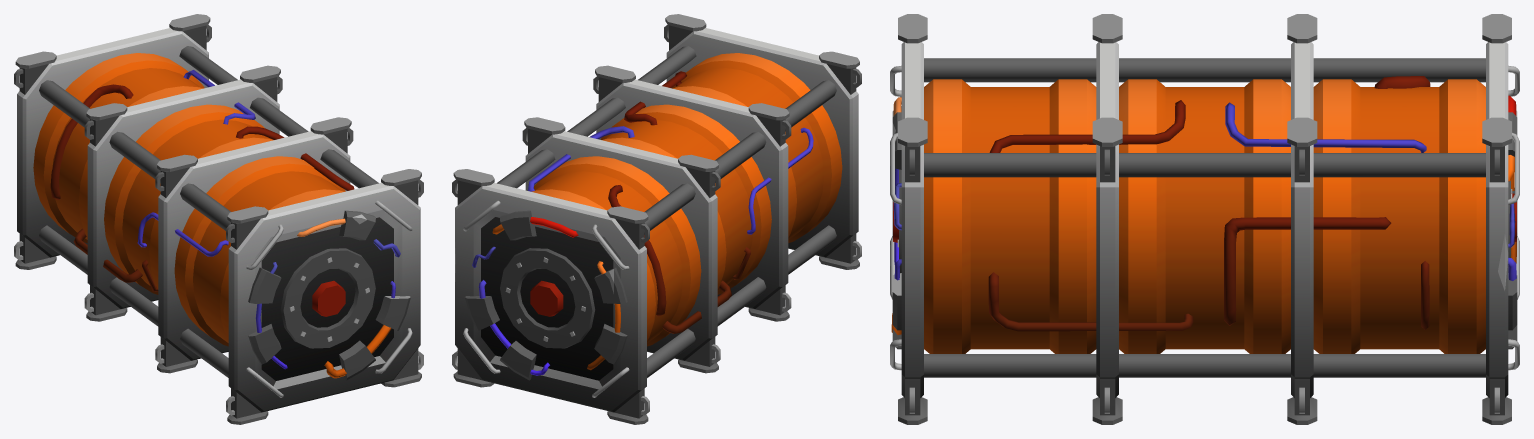
The model's file is l_tank.fbx.
3 renders of one model, left to right at view 1: azimuth 30°, elevation 25°; view 2: azimuth 150°, elevation 25°; view 3: azimuth 270°, elevation 25°, orthographic. The views are drawn at different scales.
Parts seen in each view (by area): view 1: l_tank; view 2: l_tank; view 3: l_tank.
Boxes of the visible parts, x1,y1,x2,y2 form: l_tank: [14, 14, 423, 424]; l_tank: [452, 14, 861, 424]; l_tank: [890, 14, 1519, 424].
Size of the model in its own units: 199 by 198 by 400.
